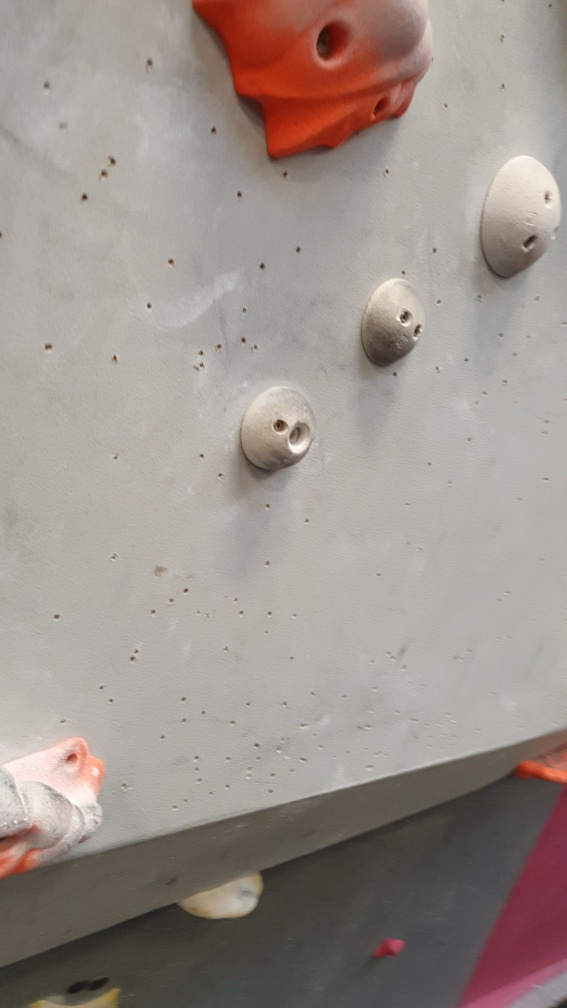Jug: (1, 737, 110, 883)
Sloper: (473, 148, 562, 284), (237, 380, 320, 471), (354, 277, 432, 371)
